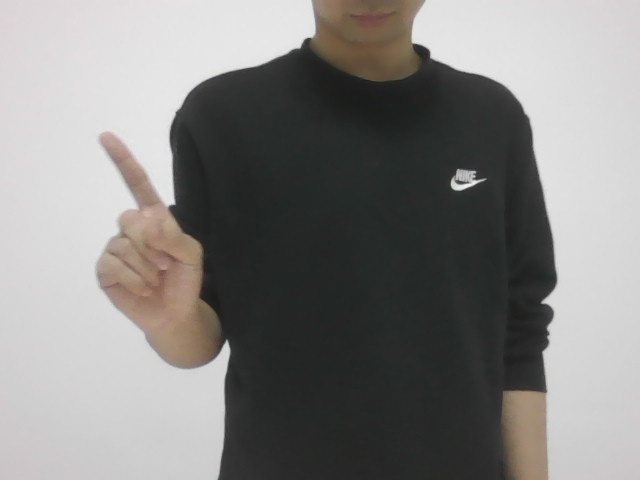what: (80, 123, 205, 343)
